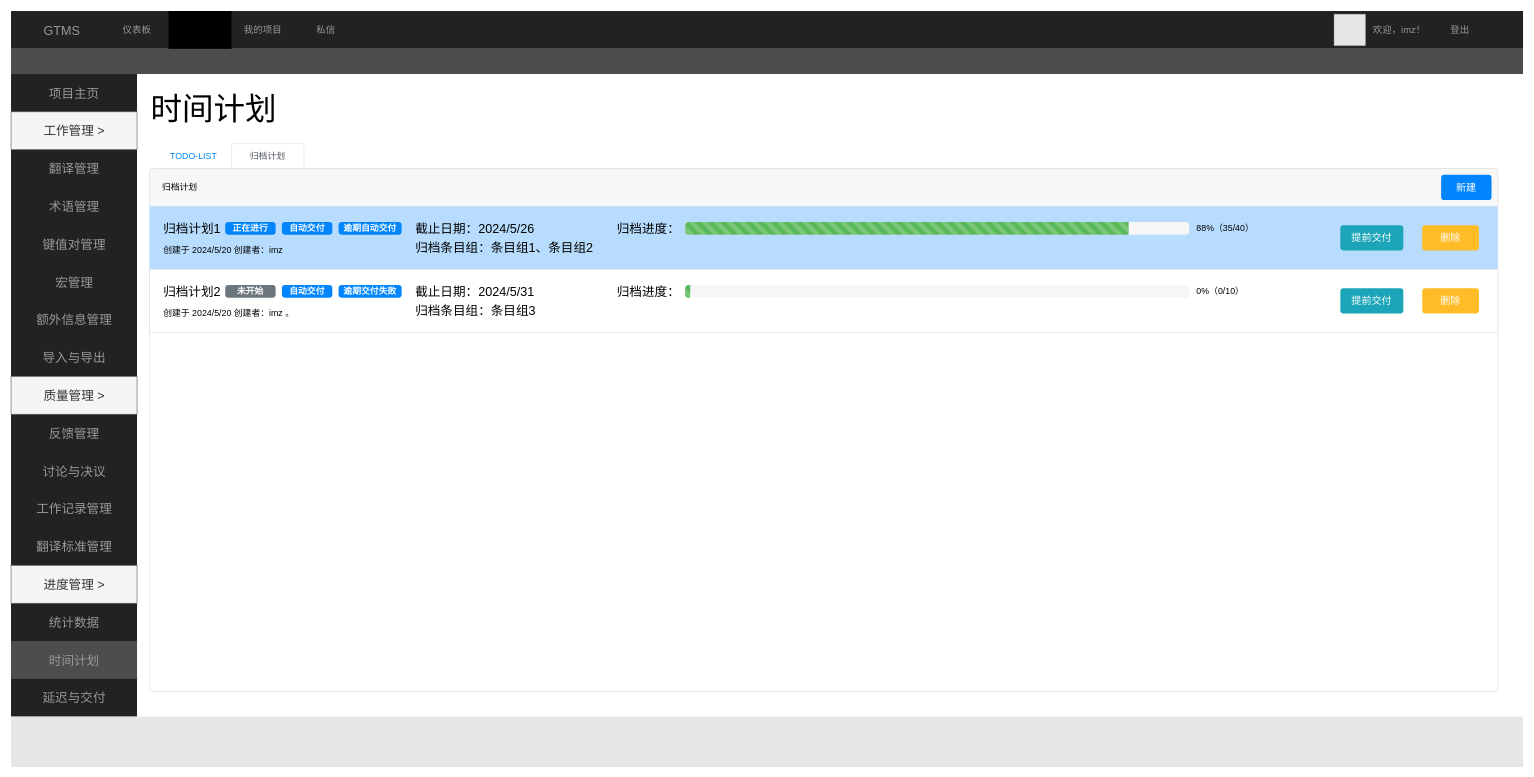
The diagram is 1534 pixels wide and 777 high, and some of its shapes have lost their labels. Grey dashed boxes stand in for pictures. The centre of each missing label's shape, as x and y in pixels:
"Yifan Xu 毕业设计 @天津工业大学" goes at (767,741).
"示例中文化项目01 / 时间计划" goes at (767,61).
"项目浏览" goes at (199,30).
